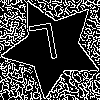L: (27, 22, 62, 72)
